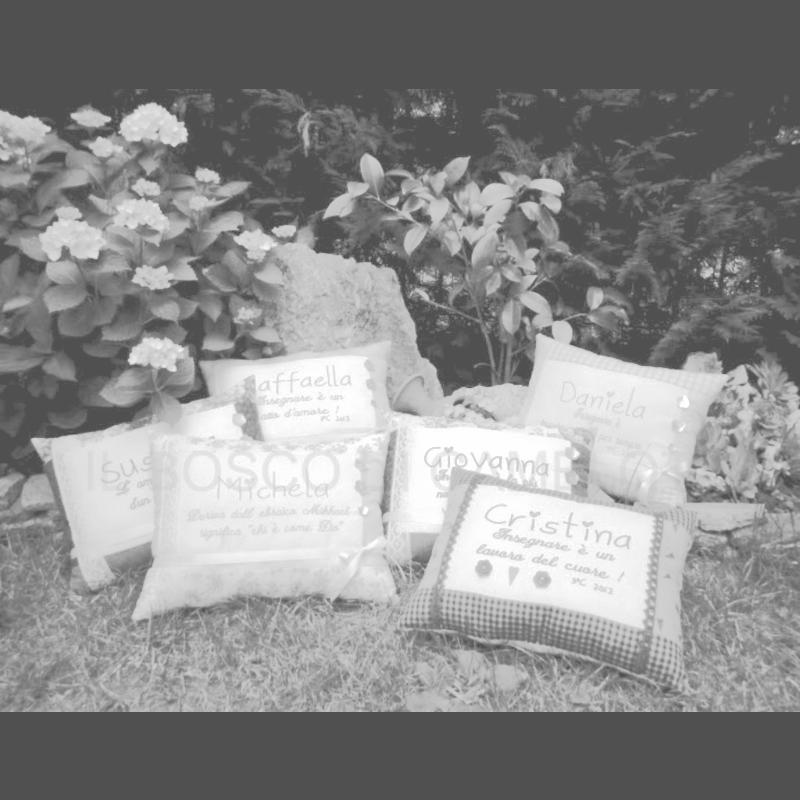pillow: (389, 462, 697, 694), (25, 374, 272, 594), (510, 332, 720, 507), (380, 416, 598, 570), (198, 346, 398, 440)
